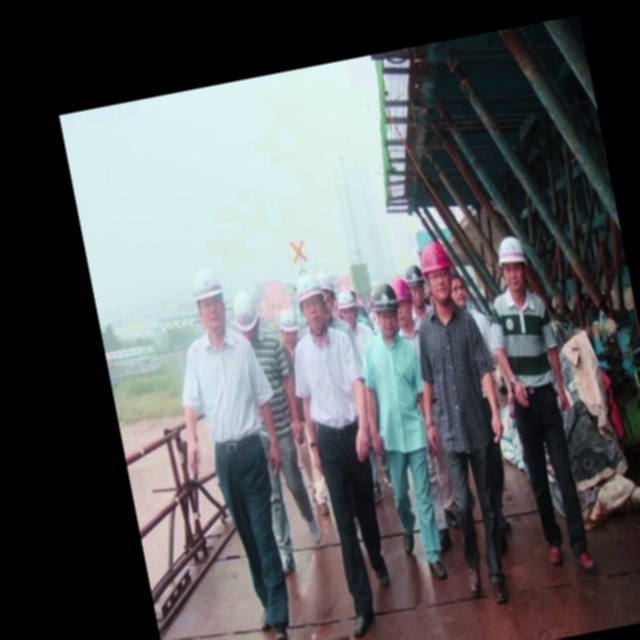Con_Casco: (416, 240, 458, 308), (493, 235, 534, 299)
Sin_Chaleco: (287, 322, 370, 442), (189, 327, 267, 449)
